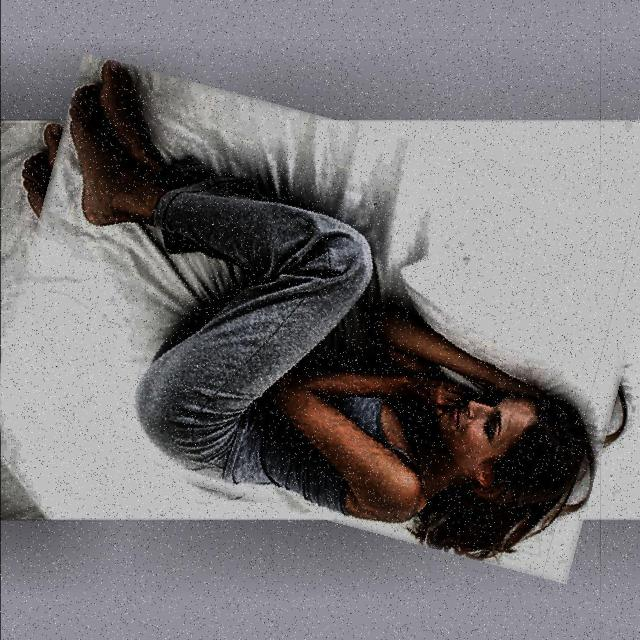Not_Supine: (69, 61, 595, 560)
